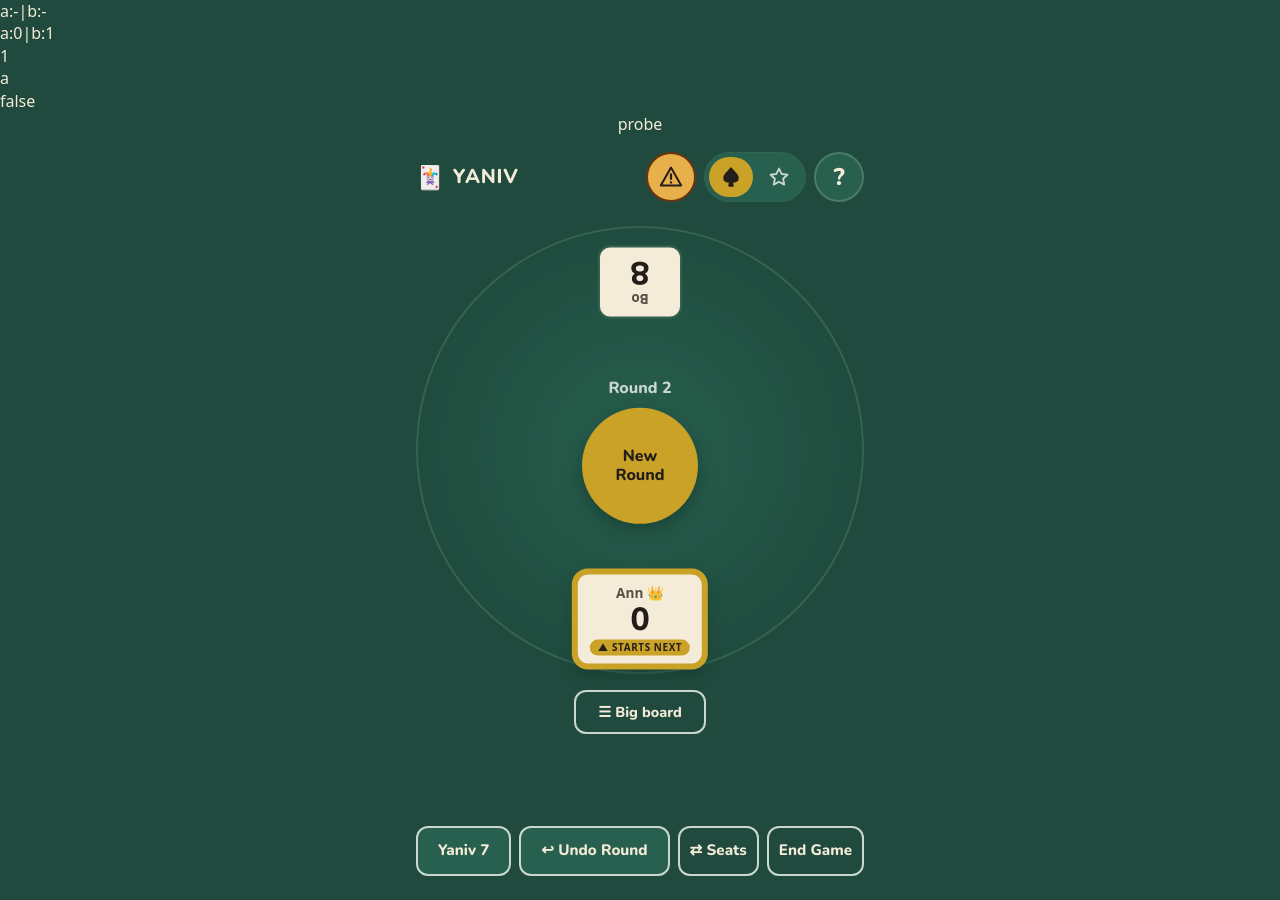
Test: the confirmation in front of a removal › says so, and names the winner, when the removal ENDS the game
The width and height of the screenshot is (1280, 900).
Step 1. Click the button with aria-label "Rearrange seats" → click(718, 851), box [678, 826, 759, 876]
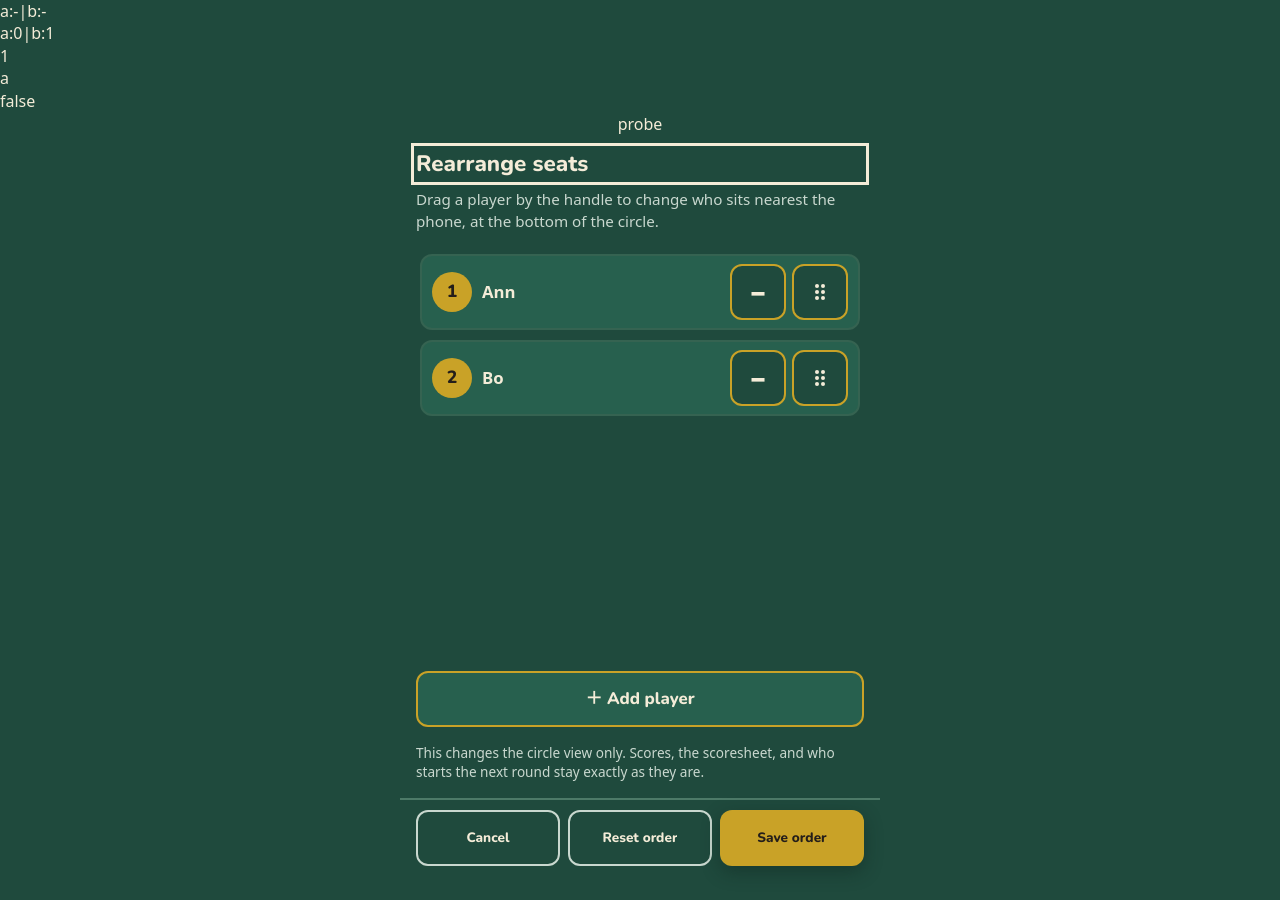
Step 2. Click the button with test id "remove-b" → click(758, 378), box [730, 350, 786, 406]
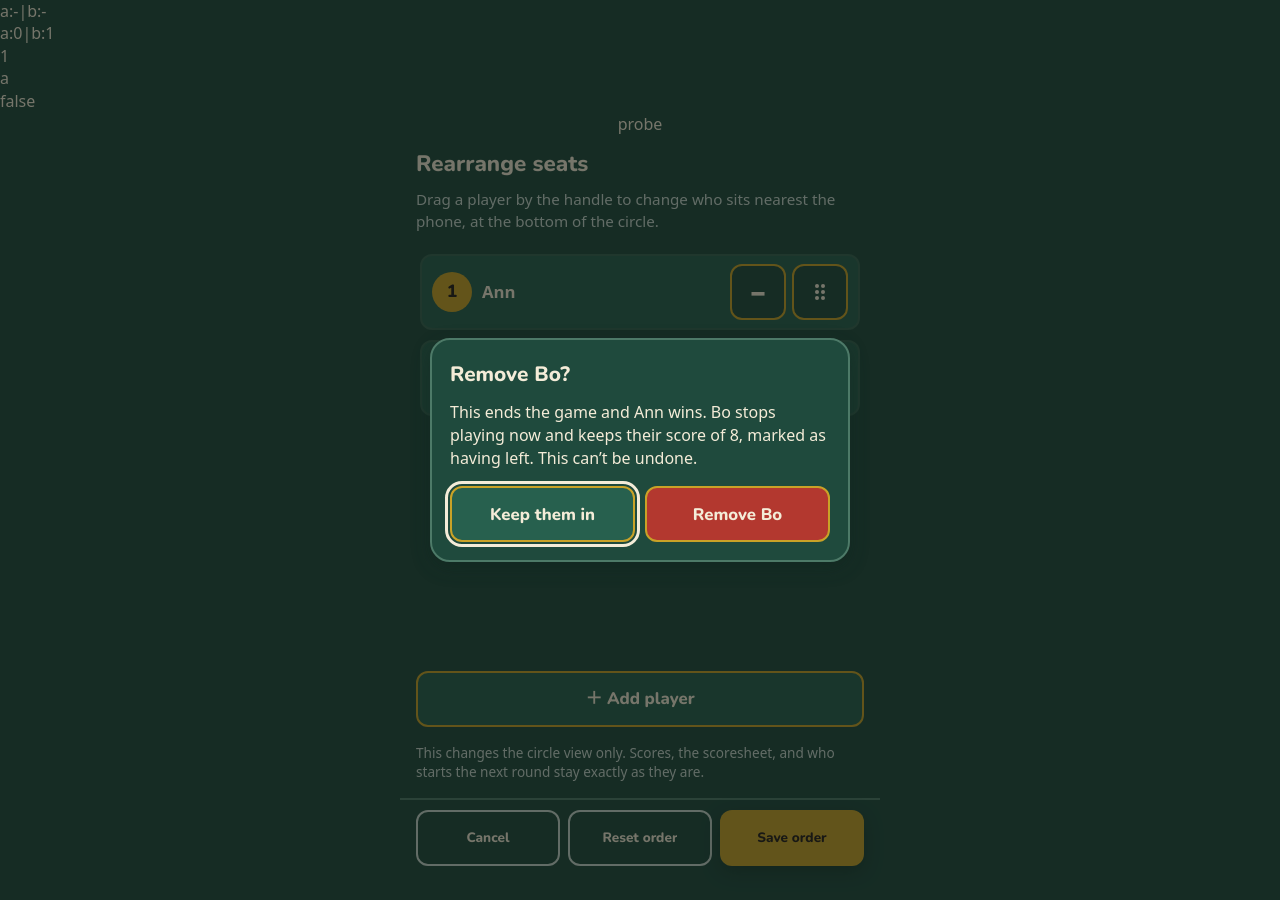
Expected: the dialog with test id "confirm-remove-player" shows "This ends the game and Ann wins.", [450, 401, 826, 469]
